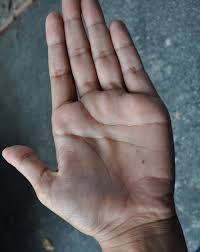palm: (56, 101, 166, 214)
